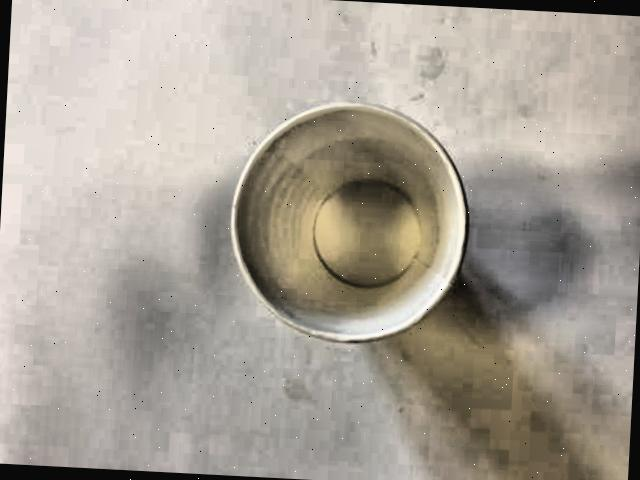Paper: (213, 77, 483, 356)
